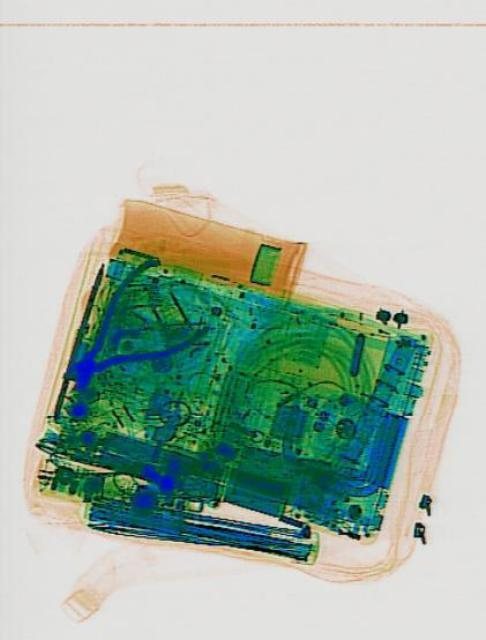Pliers: (42, 244, 207, 426)
